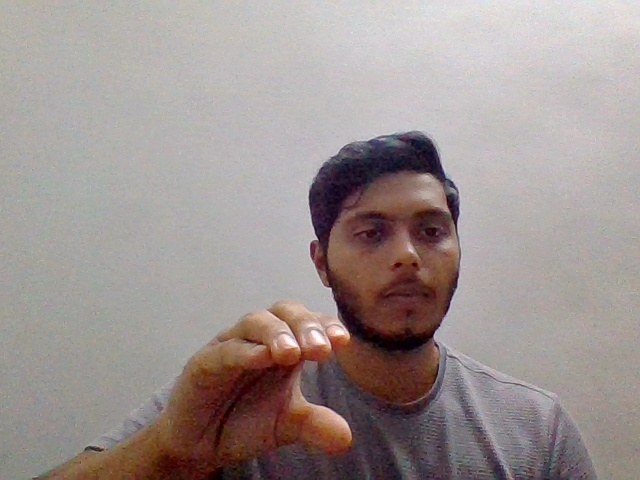No: (152, 289, 373, 474)
